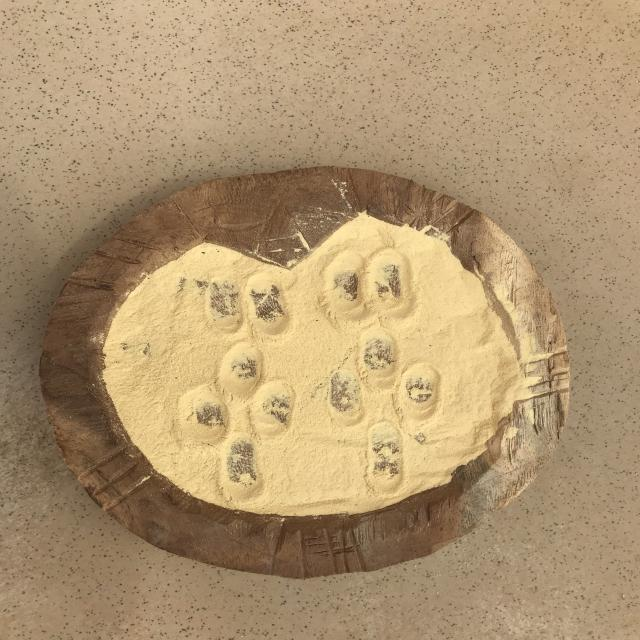double: (316, 240, 422, 326), (168, 384, 298, 444), (319, 373, 446, 422), (204, 270, 288, 342)
single: (207, 433, 273, 505), (358, 424, 412, 489), (213, 346, 276, 394), (356, 330, 404, 376)
